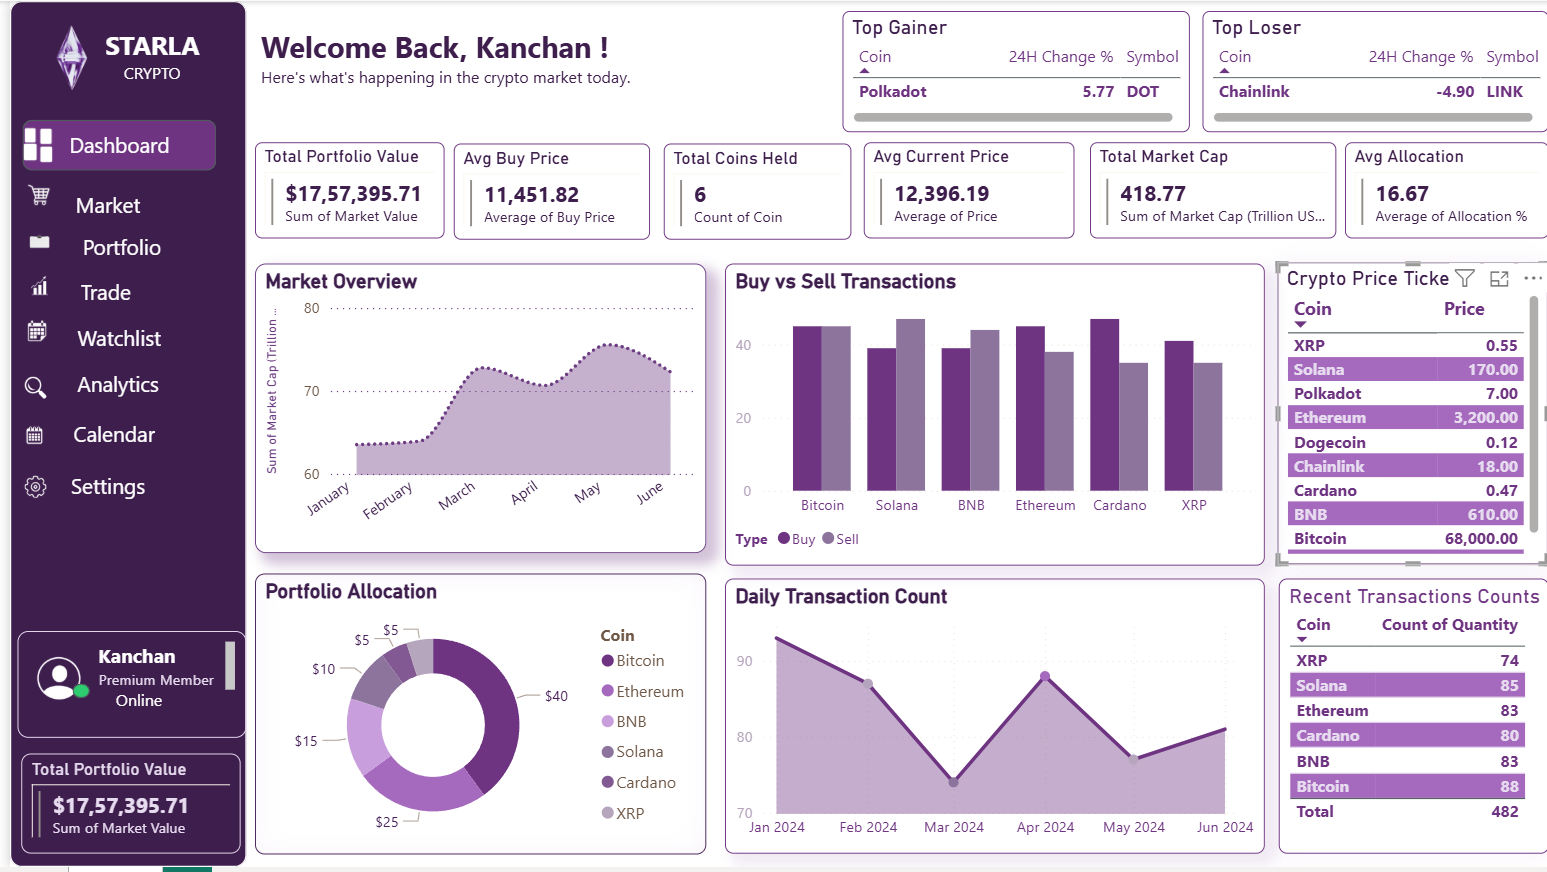

This screenshot's page, from the dashboard's own definition file:
{"tool":"powerbi","page":{"name":"Page 1","canvas":[1280,720],"ordinal":0},"visuals":[{"type":"shape","box":[0,0,196.7,720],"z":0},{"type":"textbox","box":[33.3,16.7,170,103.3],"z":1000},{"type":"image","box":[0,0,102.2,95.6],"z":2000},{"type":"shape","box":[10,98.9,161.1,42.2],"z":3000},{"type":"shape","box":[0.9,147.3,160.9,42.7],"z":4000},{"type":"shape","box":[12.2,183.3,161.1,42.2],"z":5000},{"type":"shape","box":[33.6,206.4,92.7,69.1],"z":6000},{"type":"shape","box":[10.9,259.1,160.9,41.8],"z":7000},{"type":"shape","box":[9.1,296.4,160.9,42.7],"z":8000},{"type":"shape","box":[6.4,339.1,160.9,41.8],"z":9000},{"type":"shape","box":[0.9,380.9,160.9,42.7],"z":10000},{"type":"image","box":[240,0,12.2,47.8],"z":11000},{"type":"image","box":[0,92.2,33.3,38.9],"z":12000},{"type":"image","box":[8.9,106.7,41.1,41.1],"z":13000},{"type":"image","box":[3.3,92.2,53.3,40],"z":14000},{"type":"image","box":[0,104.4,33.3,43.3],"z":15000},{"type":"image","box":[0,144.4,48.1,33.8],"z":16000},{"type":"image","box":[8.8,183.8,32.5,33.8],"z":17000},{"type":"image","box":[0,201.1,48.9,68.9],"z":18000},{"type":"image","box":[5.6,255.6,35.6,38.8],"z":19000},{"type":"image","box":[0.6,308.1,41.2,28.1],"z":20000},{"type":"image","box":[8.8,306.2,24.4,108.1],"z":21000},{"type":"image","box":[1.1,385.6,41.1,37.8],"z":22000},{"type":"textbox","box":[203.3,16.7,352.2,75.6],"z":23000},{"type":"multiRowCard","title":"Total Portfolio Value","fields":{"Values":["Sum(Portfolio.Market Value)"]},"box":[203.3,117.8,157.8,80],"z":24000},{"type":"areaChart","title":"Market Overview","fields":{"Category":["MarketHistory.Date.Variation.Date Hierarchy.Month"],"Y":["Sum(MarketHistory.Market Cap (Trillion USD))"]},"box":[203.3,217.8,375.6,241.1],"z":25000},{"type":"donutChart","title":"Portfolio Allocation ","fields":{"Y":["Sum(Portfolio.Allocation %)"],"Category":["Portfolio.Coin"]},"box":[203.3,475.6,375.6,233.3],"z":26000},{"type":"lineChart","title":"Daily Transaction Count","fields":{"Y":["CountNonNull(Transactions.Type)"],"Category":["Transactions.Date.Variation.Date Hierarchy.Year","Transactions.Date.Variation.Date Hierarchy.Quarter","Transactions.Date.Variation.Date Hierarchy.Month"]},"box":[594.4,480,448.9,228.9],"z":27000},{"type":"clusteredColumnChart","title":"Buy vs Sell Transactions","fields":{"Category":["Transactions.Coin"],"Y":["CountNonNull(Transactions.Symbol)"],"Series":["Transactions.Type"]},"box":[594.4,217.8,448.9,251.1],"z":28000},{"type":"tableEx","title":"Top Gainer","fields":{"Values":["Watchlist.Coin","Watchlist.24H Change %","Watchlist.Symbol"]},"box":[692,8,289,101],"z":29000},{"type":"tableEx","title":"Top Loser","fields":{"Values":["Watchlist.Coin","Watchlist.24H Change %","Watchlist.Symbol"]},"box":[991,8,289,101],"z":30000},{"type":"tableEx","title":"Crypto Price Ticker","fields":{"Values":["Watchlist.Coin","Watchlist.Price"]},"box":[1054.2,217.5,225.8,250.8],"z":31000},{"type":"tableEx","title":"Recent Transactions Counts","fields":{"Values":["Transactions.Coin","Count(Transactions.Quantity)"]},"box":[1054.4,480,225.6,228.9],"z":32000},{"type":"multiRowCard","title":"Total Coins Held","fields":{"Values":["Portfolio.Coin"]},"box":[544,118,156,80],"z":33000},{"type":"multiRowCard","title":"Avg Current Price","fields":{"Values":["Avg(Transactions.Price)"]},"box":[710,117.8,175.6,80],"z":34000},{"type":"multiRowCard","title":"Total Market Cap","fields":{"Values":["Sum(MarketHistory.Market Cap (Trillion USD))"]},"box":[897.8,117.8,204.4,80],"z":35000},{"type":"multiRowCard","title":"Avg Allocation","fields":{"Values":["Avg(Portfolio.Allocation %)"]},"box":[1110,117.8,170,80],"z":36000},{"type":"multiRowCard","title":"Avg Buy Price","fields":{"Values":["Avg(Portfolio.Buy Price)"]},"box":[369,118,163,80],"z":37000},{"type":"textbox","box":[6.7,523.3,190,88.9],"z":38000},{"type":"image","box":[5.6,523.3,70,78.9],"z":39000},{"type":"shape","box":[52.2,567.8,14.4,12.2],"z":40000},{"type":"multiRowCard","title":"Total Portfolio Value","fields":{"Values":["Sum(Portfolio.Market Value)"]},"box":[8.9,625.6,182.2,83.3],"z":41000}]}

Visuals, with their boxes in screenshot pixels (x1, y1, x2, y2), scaled from the page's 1280x720 canvas onto the 1547x872 screenshot:
shape: (0, 0, 238, 871)
textbox: (40, 20, 246, 145)
image: (0, 0, 124, 116)
shape: (12, 120, 207, 171)
shape: (1, 178, 196, 230)
shape: (15, 222, 209, 273)
shape: (41, 250, 153, 334)
shape: (13, 314, 208, 364)
shape: (11, 359, 205, 411)
shape: (8, 411, 202, 461)
shape: (1, 461, 196, 513)
image: (290, 0, 305, 58)
image: (0, 112, 40, 159)
image: (11, 129, 60, 179)
image: (4, 112, 68, 160)
image: (0, 126, 40, 179)
image: (0, 175, 58, 216)
image: (11, 223, 50, 264)
image: (0, 244, 59, 327)
image: (7, 310, 50, 357)
image: (1, 373, 51, 407)
image: (11, 371, 40, 502)
image: (1, 467, 51, 513)
textbox: (246, 20, 671, 112)
"Total Portfolio Value" multiRowCard: (246, 143, 436, 240)
"Market Overview" areaChart: (246, 264, 700, 556)
"Portfolio Allocation " donutChart: (246, 576, 700, 859)
"Daily Transaction Count" lineChart: (718, 581, 1261, 859)
"Buy vs Sell Transactions" clusteredColumnChart: (718, 264, 1261, 568)
"Top Gainer" tableEx: (836, 10, 1186, 132)
"Top Loser" tableEx: (1198, 10, 1546, 132)
"Crypto Price Ticker" tableEx: (1274, 263, 1546, 567)
"Recent Transactions Counts" tableEx: (1274, 581, 1546, 859)
"Total Coins Held" multiRowCard: (657, 143, 846, 240)
"Avg Current Price" multiRowCard: (858, 143, 1070, 240)
"Total Market Cap" multiRowCard: (1085, 143, 1332, 240)
"Avg Allocation" multiRowCard: (1342, 143, 1546, 240)
"Avg Buy Price" multiRowCard: (446, 143, 643, 240)
textbox: (8, 634, 238, 741)
image: (7, 634, 91, 729)
shape: (63, 688, 80, 702)
"Total Portfolio Value" multiRowCard: (11, 758, 231, 859)
